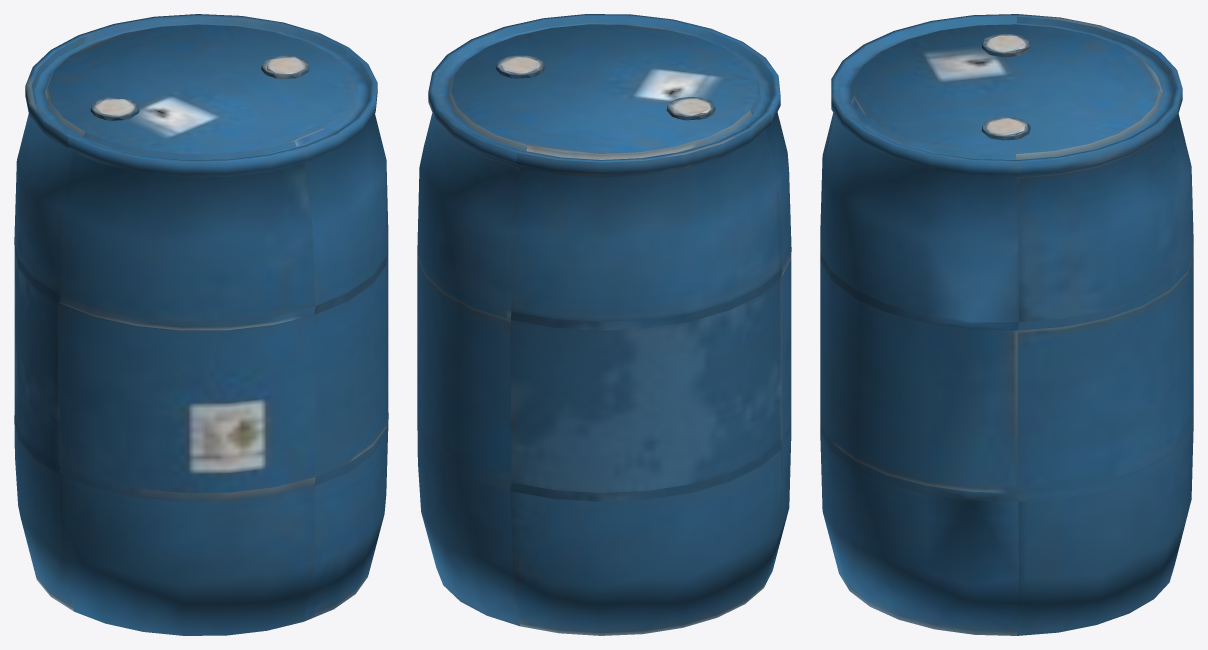
The model's file is drum.glb.
The picture shows the model from 3 angles, left to right: view 1: azimuth 30°, elevation 25°; view 2: azimuth 150°, elevation 25°; view 3: azimuth 270°, elevation 25°; orthographic projection.
Visible parts, largest first — view 1: Plastic_barrel_V1; view 2: Plastic_barrel_V1; view 3: Plastic_barrel_V1.
Part boxes in pixels (left/top/right/bottom): Plastic_barrel_V1: left=14, top=14, right=388, bottom=635; Plastic_barrel_V1: left=417, top=14, right=791, bottom=635; Plastic_barrel_V1: left=820, top=14, right=1193, bottom=635.
Bounding box in the file's own units: 0.6714 × 0.9497 × 0.67.
1 material, 1 textured.
